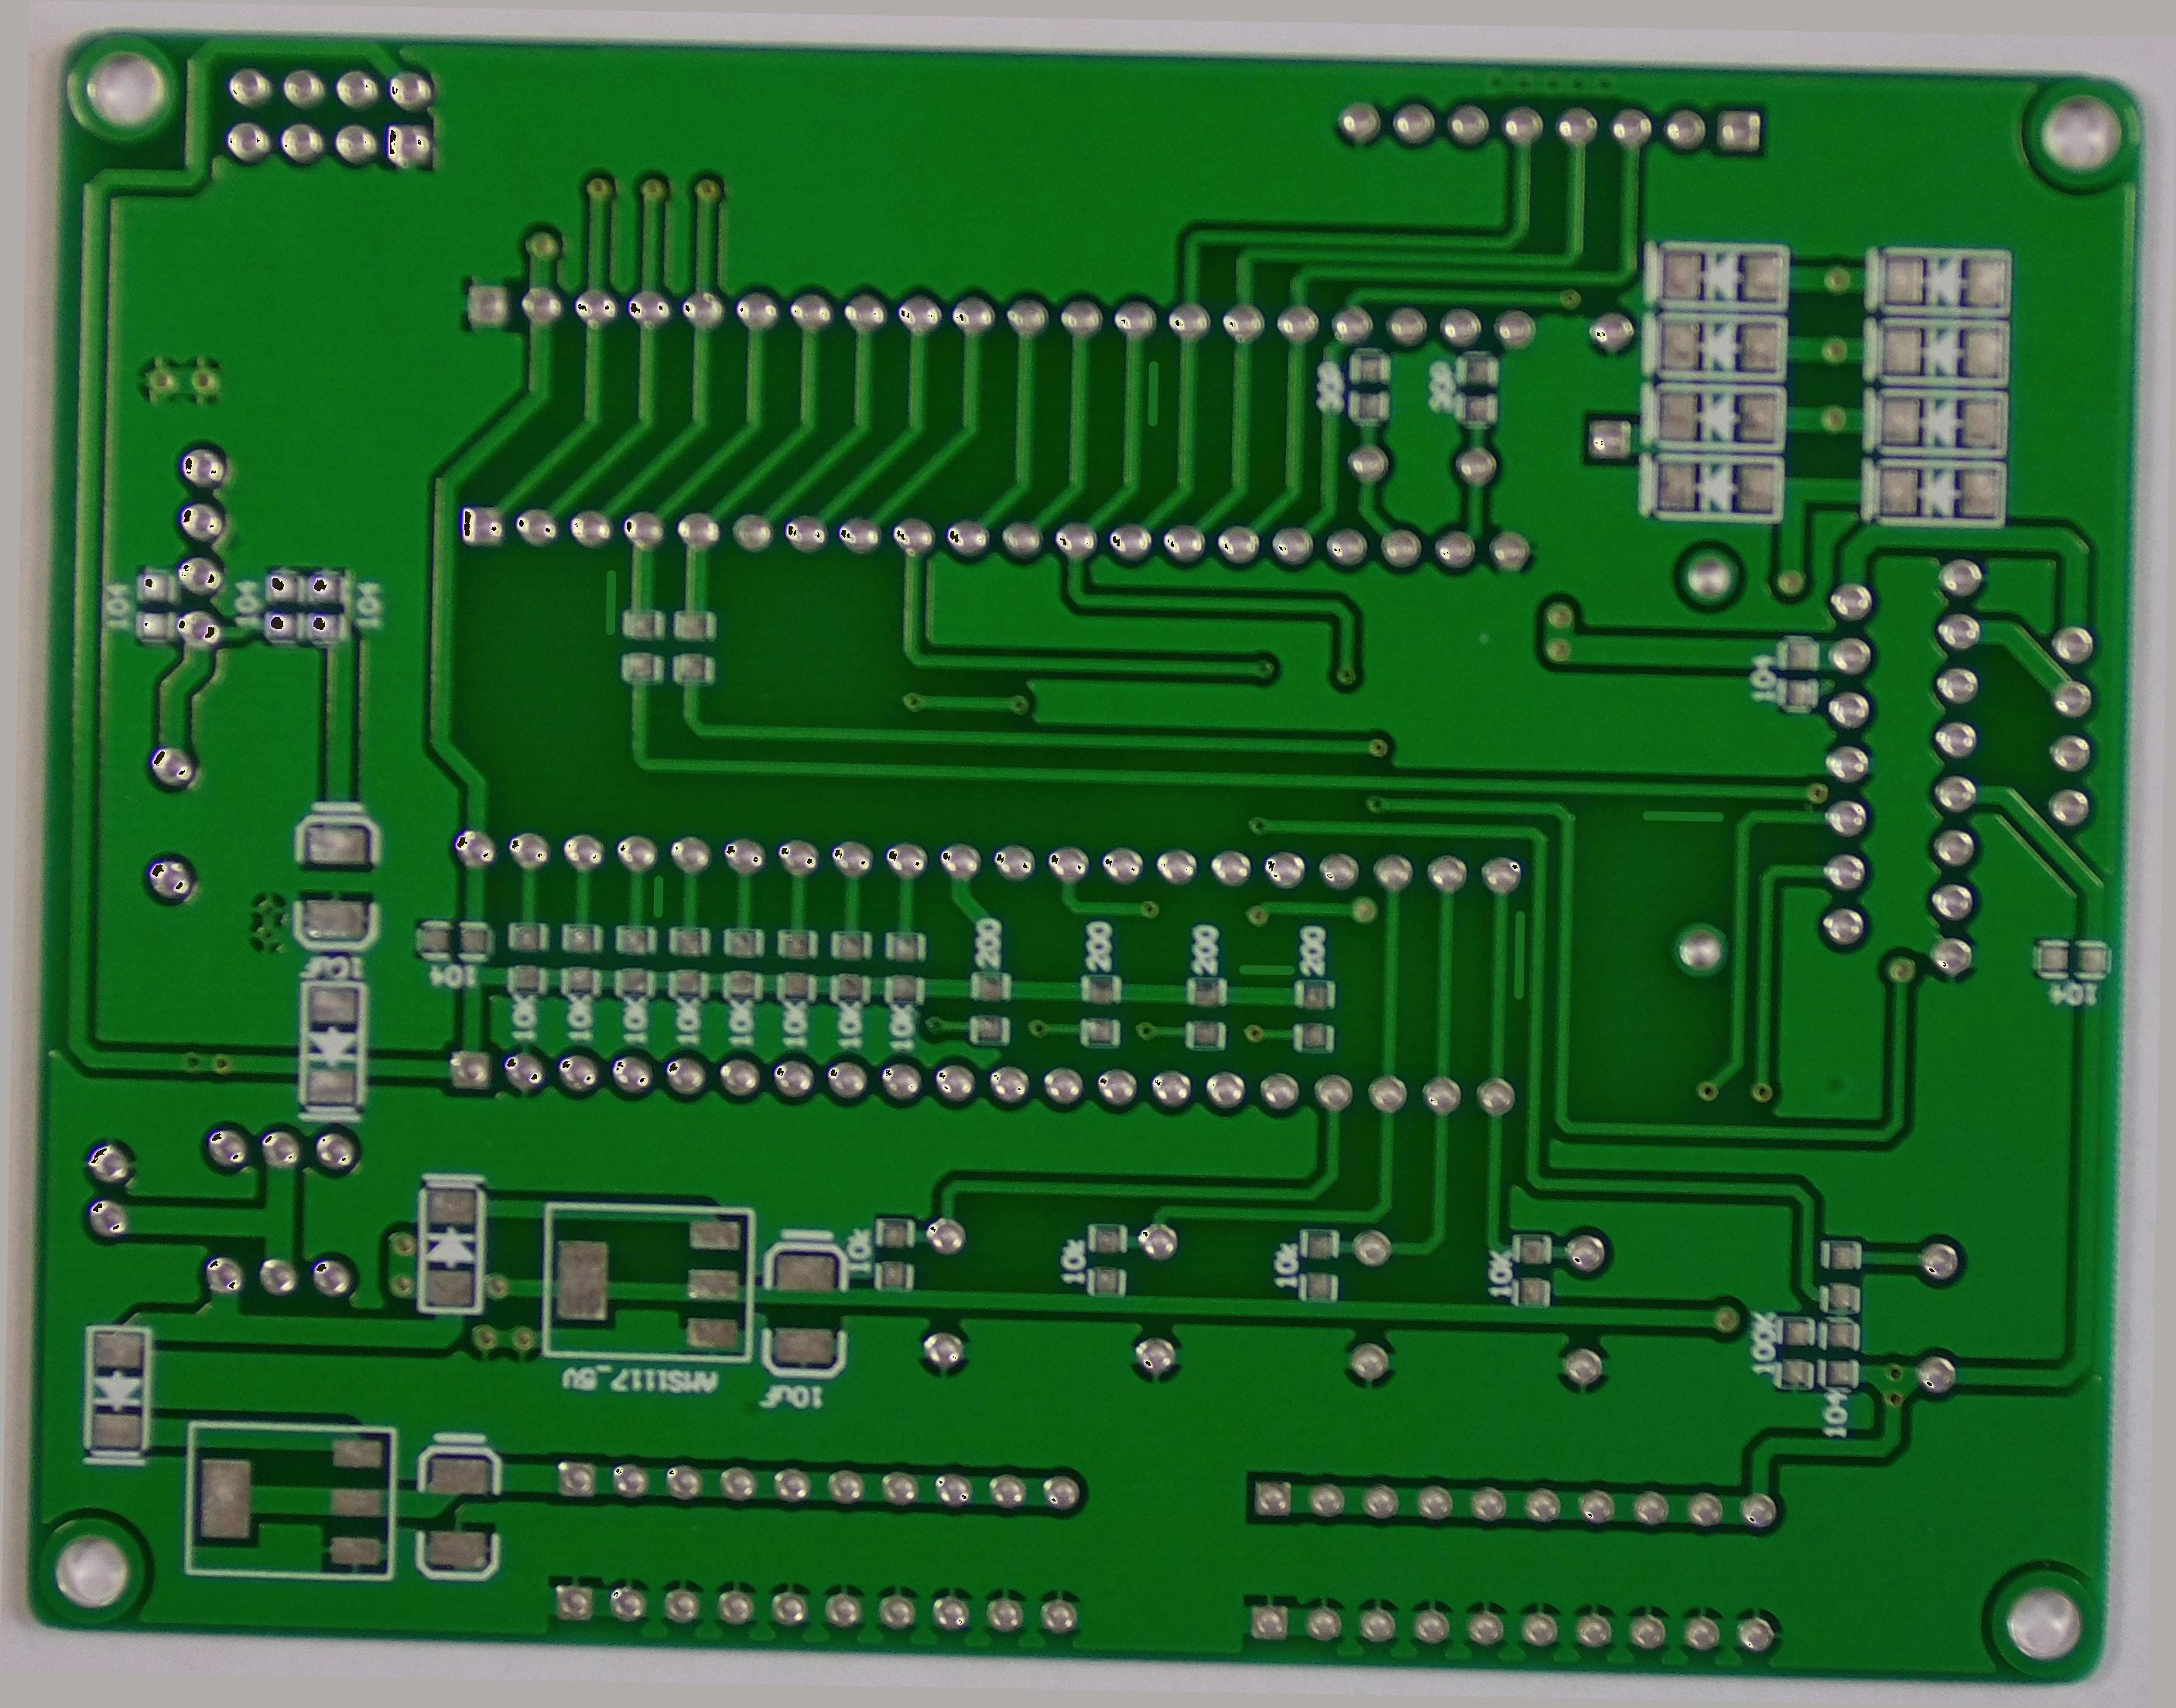spurious_copper: (1500, 899, 1544, 1009), (1636, 793, 1736, 841), (593, 558, 631, 641), (1132, 353, 1171, 431), (1231, 950, 1302, 991)
